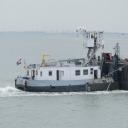tugboat: (13, 27, 118, 95)
